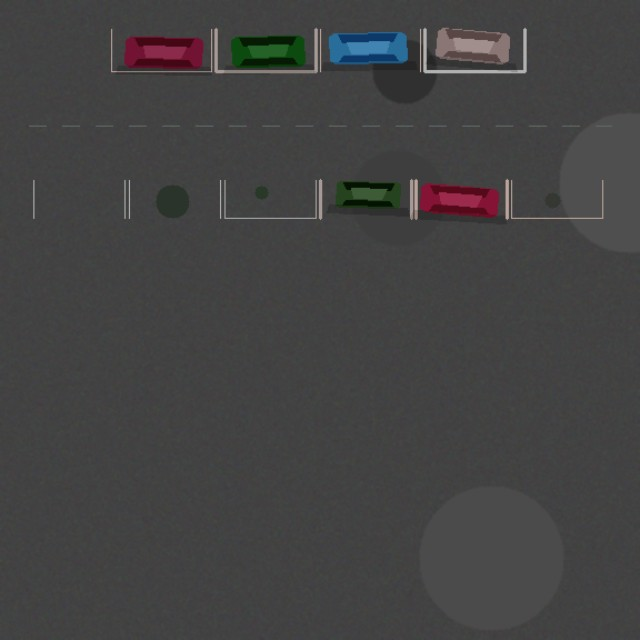space-empty: (224, 180, 316, 218), (33, 180, 124, 218), (129, 180, 220, 218), (511, 180, 602, 218)
space-occupied: (111, 29, 211, 71), (216, 29, 316, 71), (320, 29, 420, 71), (424, 29, 524, 71), (320, 180, 411, 218), (416, 180, 507, 218)
